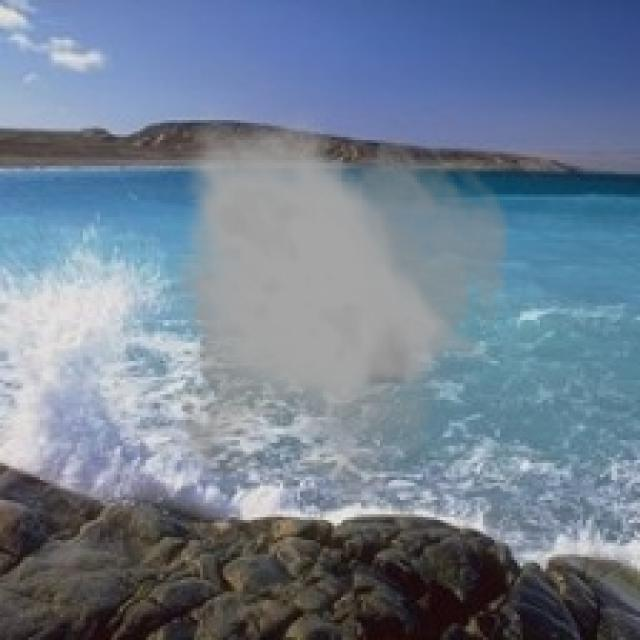smoke: (169, 103, 514, 508)
